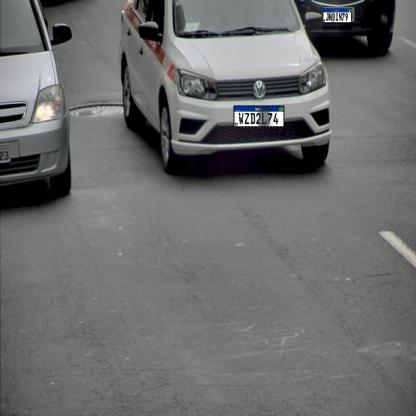PlacaM: (234, 106, 284, 128), (323, 8, 351, 23)
